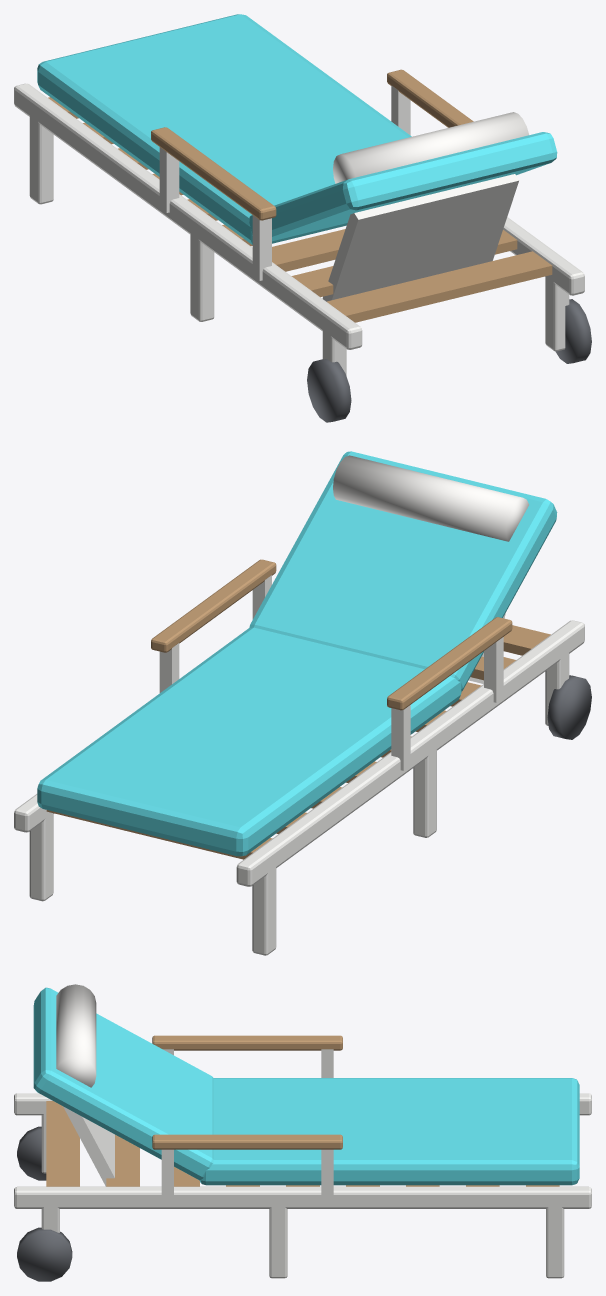
The model's file is prop_beach_lounger.glb.
The picture shows the model from 3 angles, top to bottom: view 1: azimuth 30°, elevation 25°; view 2: azimuth 150°, elevation 25°; view 3: azimuth 270°, elevation 25°; orthographic projection. The views are drawn at different scales.
Visible parts, largest first — view 1: SideRail_-0.36; view 2: SideRail_-0.36; view 3: SideRail_-0.36.
Part boxes in pixels (left/top/right/bottom): SideRail_-0.36: left=14, top=14, right=591, bottom=422; SideRail_-0.36: left=14, top=451, right=591, bottom=955; SideRail_-0.36: left=14, top=984, right=591, bottom=1281.
Bounding box in the file's own units: 0.8182 × 0.748 × 1.88.
